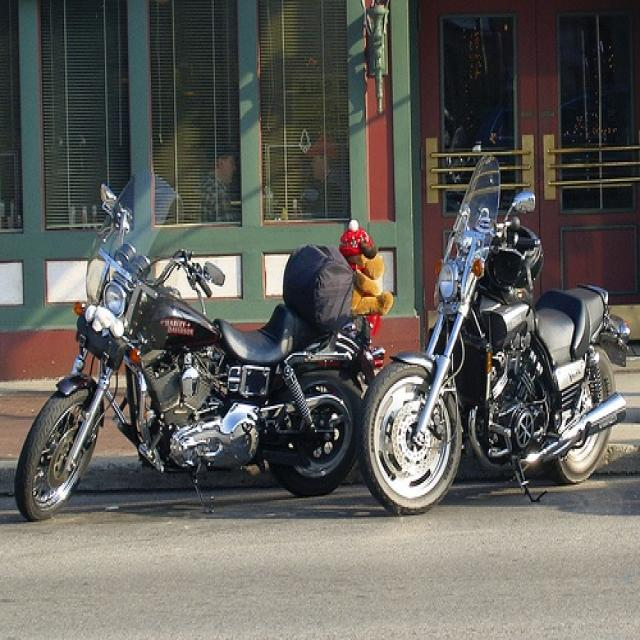motorbike: (16, 169, 386, 524), (361, 154, 636, 512)
